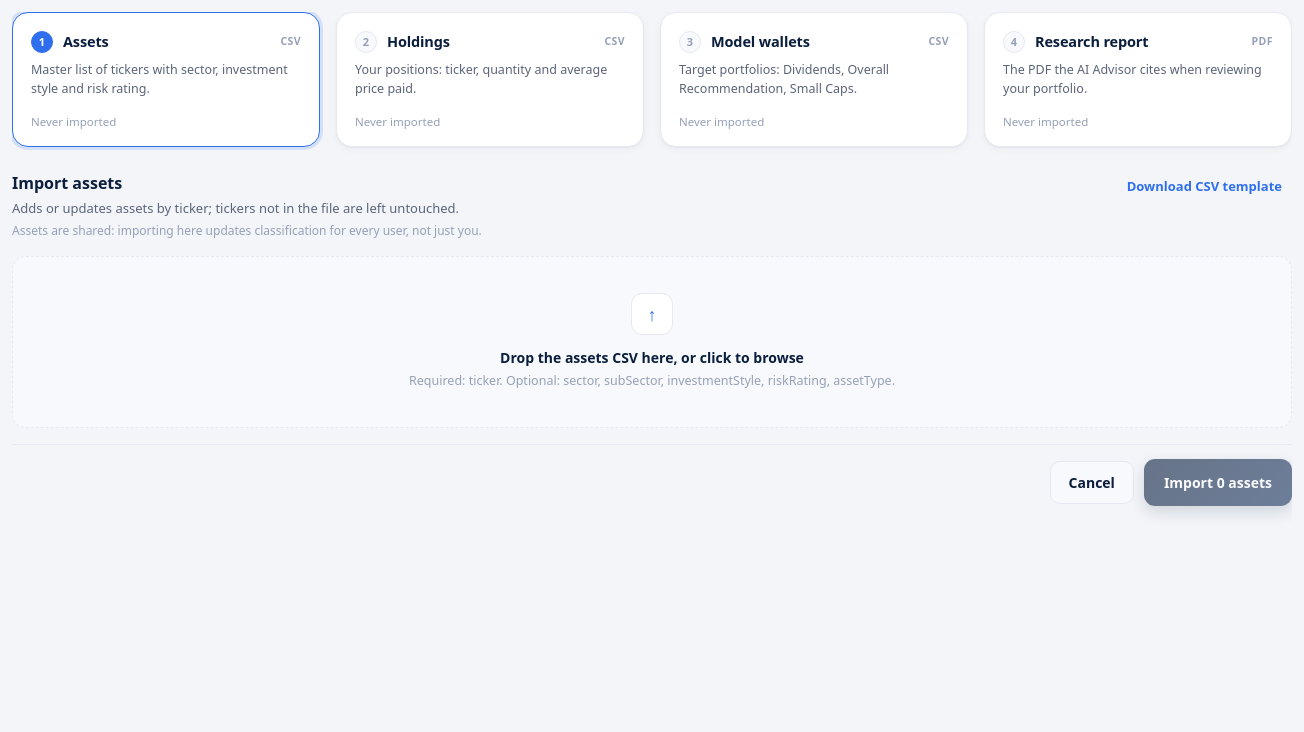
Test: DataSourcesPanel › reaches the holdings import panel through the Holdings card
Click the button "Holdings": (490, 79) x1=336 y1=12 x2=644 y2=147
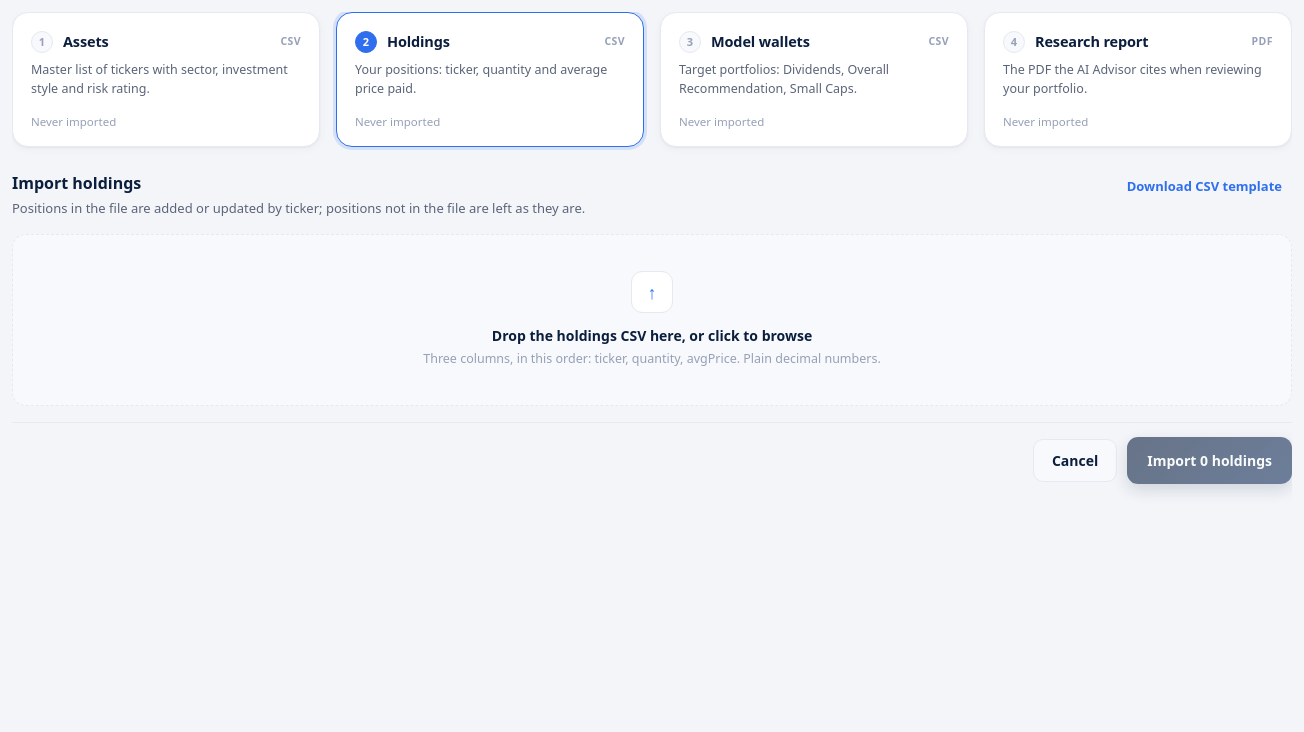
Expected: the heading "Import holdings" is shown, x1=12 y1=172 x2=141 y2=194
